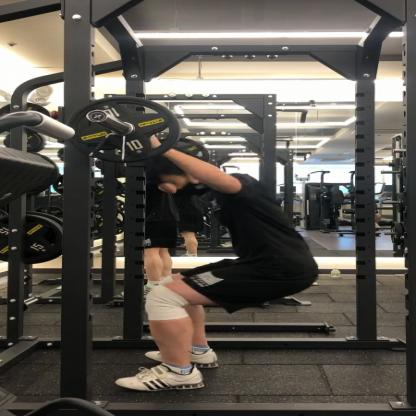Barbell: (56, 89, 191, 170)
